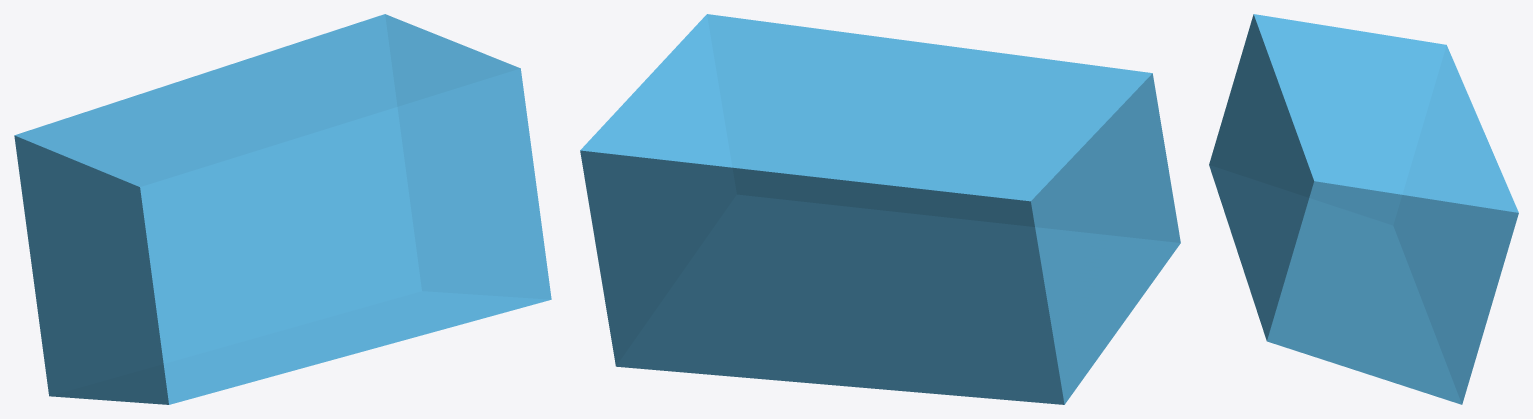
The model's file is Event_421556567_HErechit_35.fbx.
The picture shows the model from 3 angles, left to right: view 1: azimuth 30°, elevation 25°; view 2: azimuth 150°, elevation 25°; view 3: azimuth 270°, elevation 25°; orthographic projection. The views are drawn at different scales.
Visible parts, largest first — view 1: Model; view 2: Model; view 3: Model.
Part boxes in pixels (left/top/right/bottom): Model: left=14, top=14, right=551, bottom=404; Model: left=580, top=14, right=1180, bottom=404; Model: left=1209, top=14, right=1518, bottom=404.
Bounding box in the file's own units: 0.6335 × 0.4398 × 0.527.
